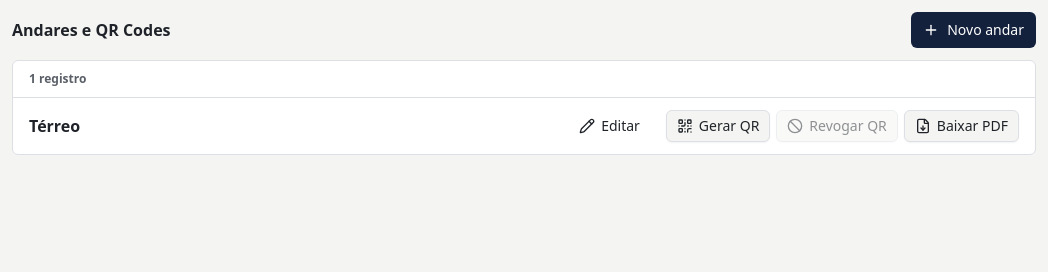
Test case: BuildingFloorsSection › generates a QR code after asking why, then lets it be revoked
Expected: the text "Térreo" is shown, top-left (29, 115), bottom-right (80, 137)
Expected: the button "Revogar QR" is disabled, top-left (776, 110), bottom-right (898, 142)
Step 1. Click the button "Gerar QR" → [718, 126], box top-left (666, 110), bottom-right (770, 142)
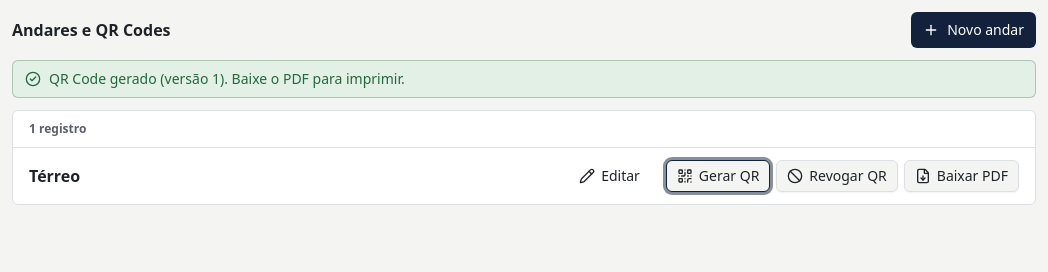
Result: the message shows "QR Code gerado (versão 1)" at top-left (49, 69), bottom-right (405, 88)
Step 2. Click the button "Revogar QR" → [837, 176], box top-left (776, 160), bottom-right (898, 192)
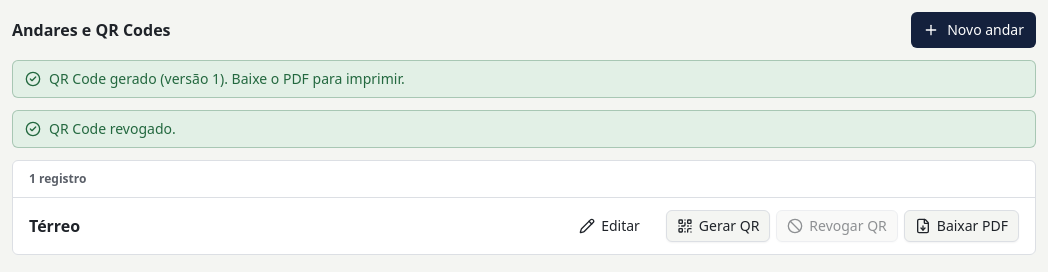
Result: the button "Revogar QR" is disabled at top-left (776, 210), bottom-right (898, 242)
